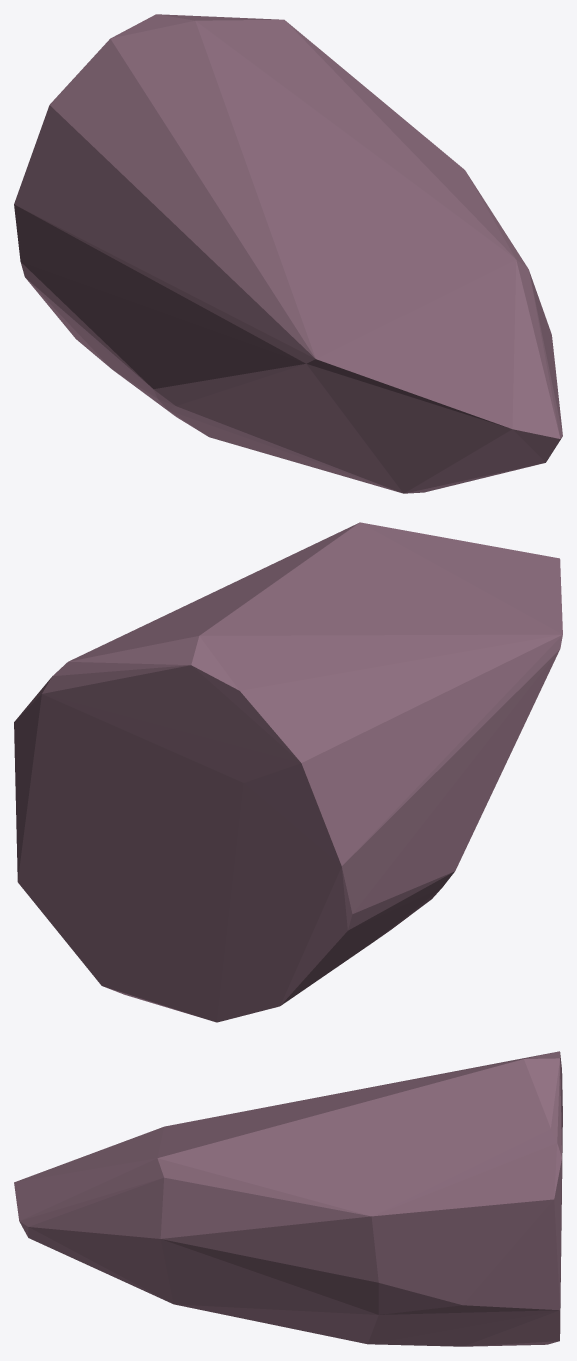
The model's file is paint_container_bottle_yellowLight_a03.glb.
3 renders of one model, top to bottom at view 1: azimuth 30°, elevation 25°; view 2: azimuth 150°, elevation 25°; view 3: azimuth 270°, elevation 25°, orthographic. The views are drawn at different scales.
Parts seen in each view (by area): view 1: geometry_0; view 2: geometry_0; view 3: geometry_0.
Boxes of the visible parts, box(x1,y1,x2,y2) form: geometry_0: box(14, 14, 562, 493); geometry_0: box(14, 522, 562, 1022); geometry_0: box(14, 1051, 562, 1346).
Size of the model in its own units: 0.2586 by 0.2548 by 0.479.
